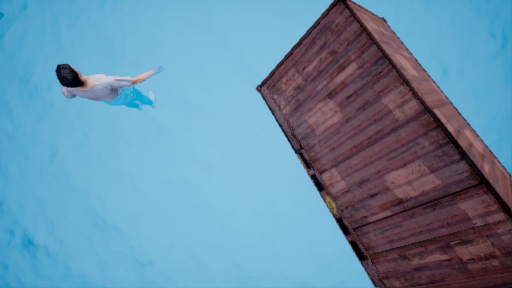person: (57, 56, 168, 114)
